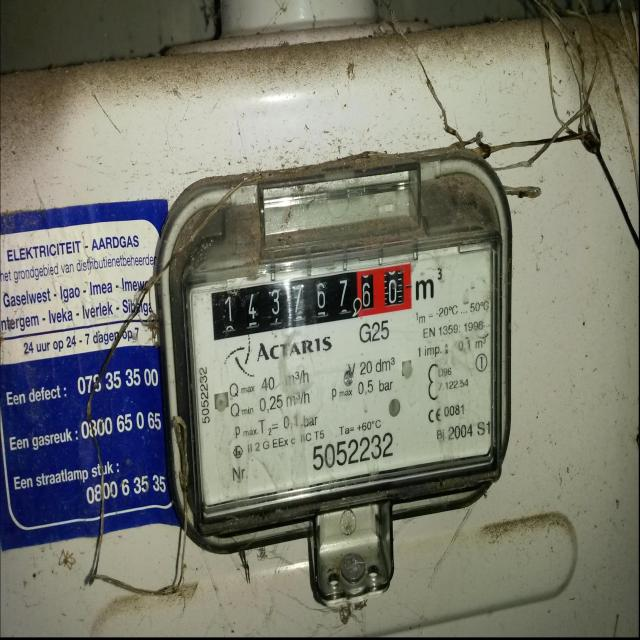gaz_meter: (189, 245, 494, 516)
indication: (211, 259, 413, 342)
